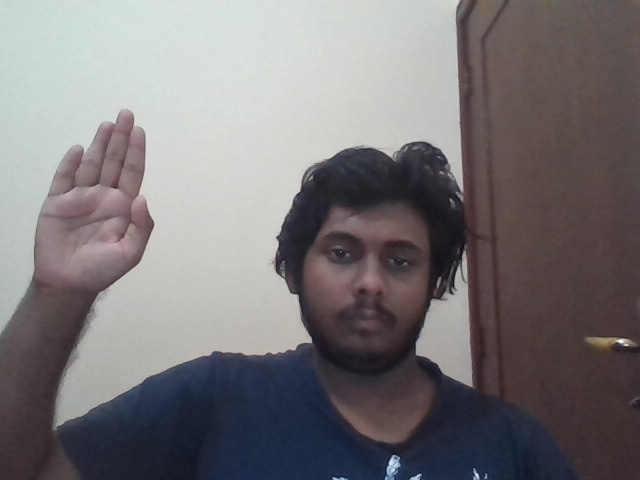hello: (33, 108, 155, 294)
